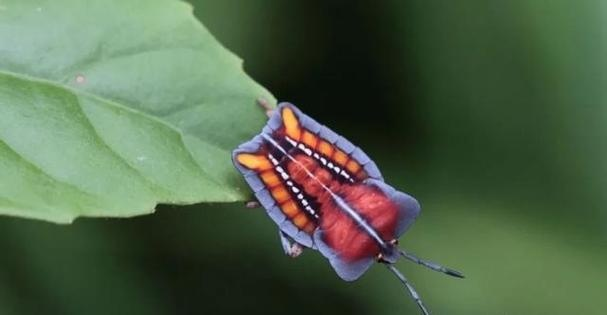Stink_Bug: (234, 111, 419, 279)
